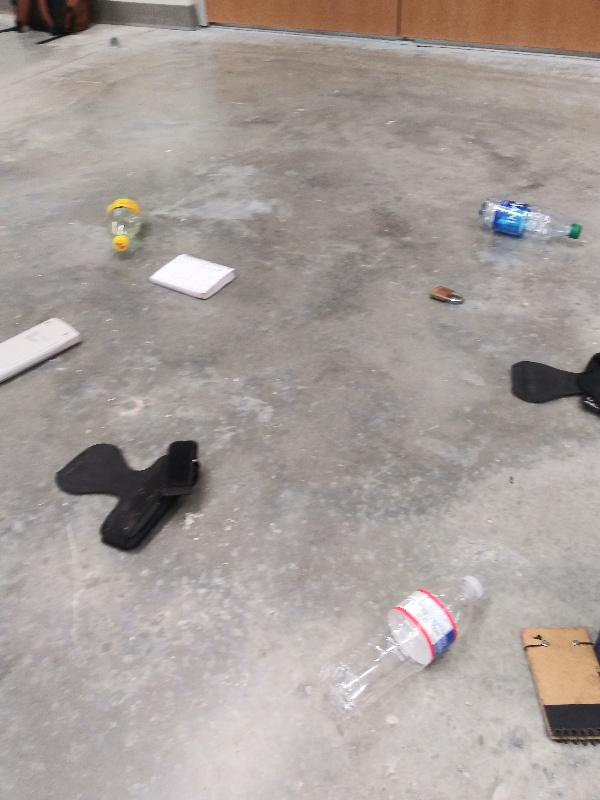bottle: (310, 571, 485, 718), (476, 195, 587, 249), (103, 187, 145, 257)
